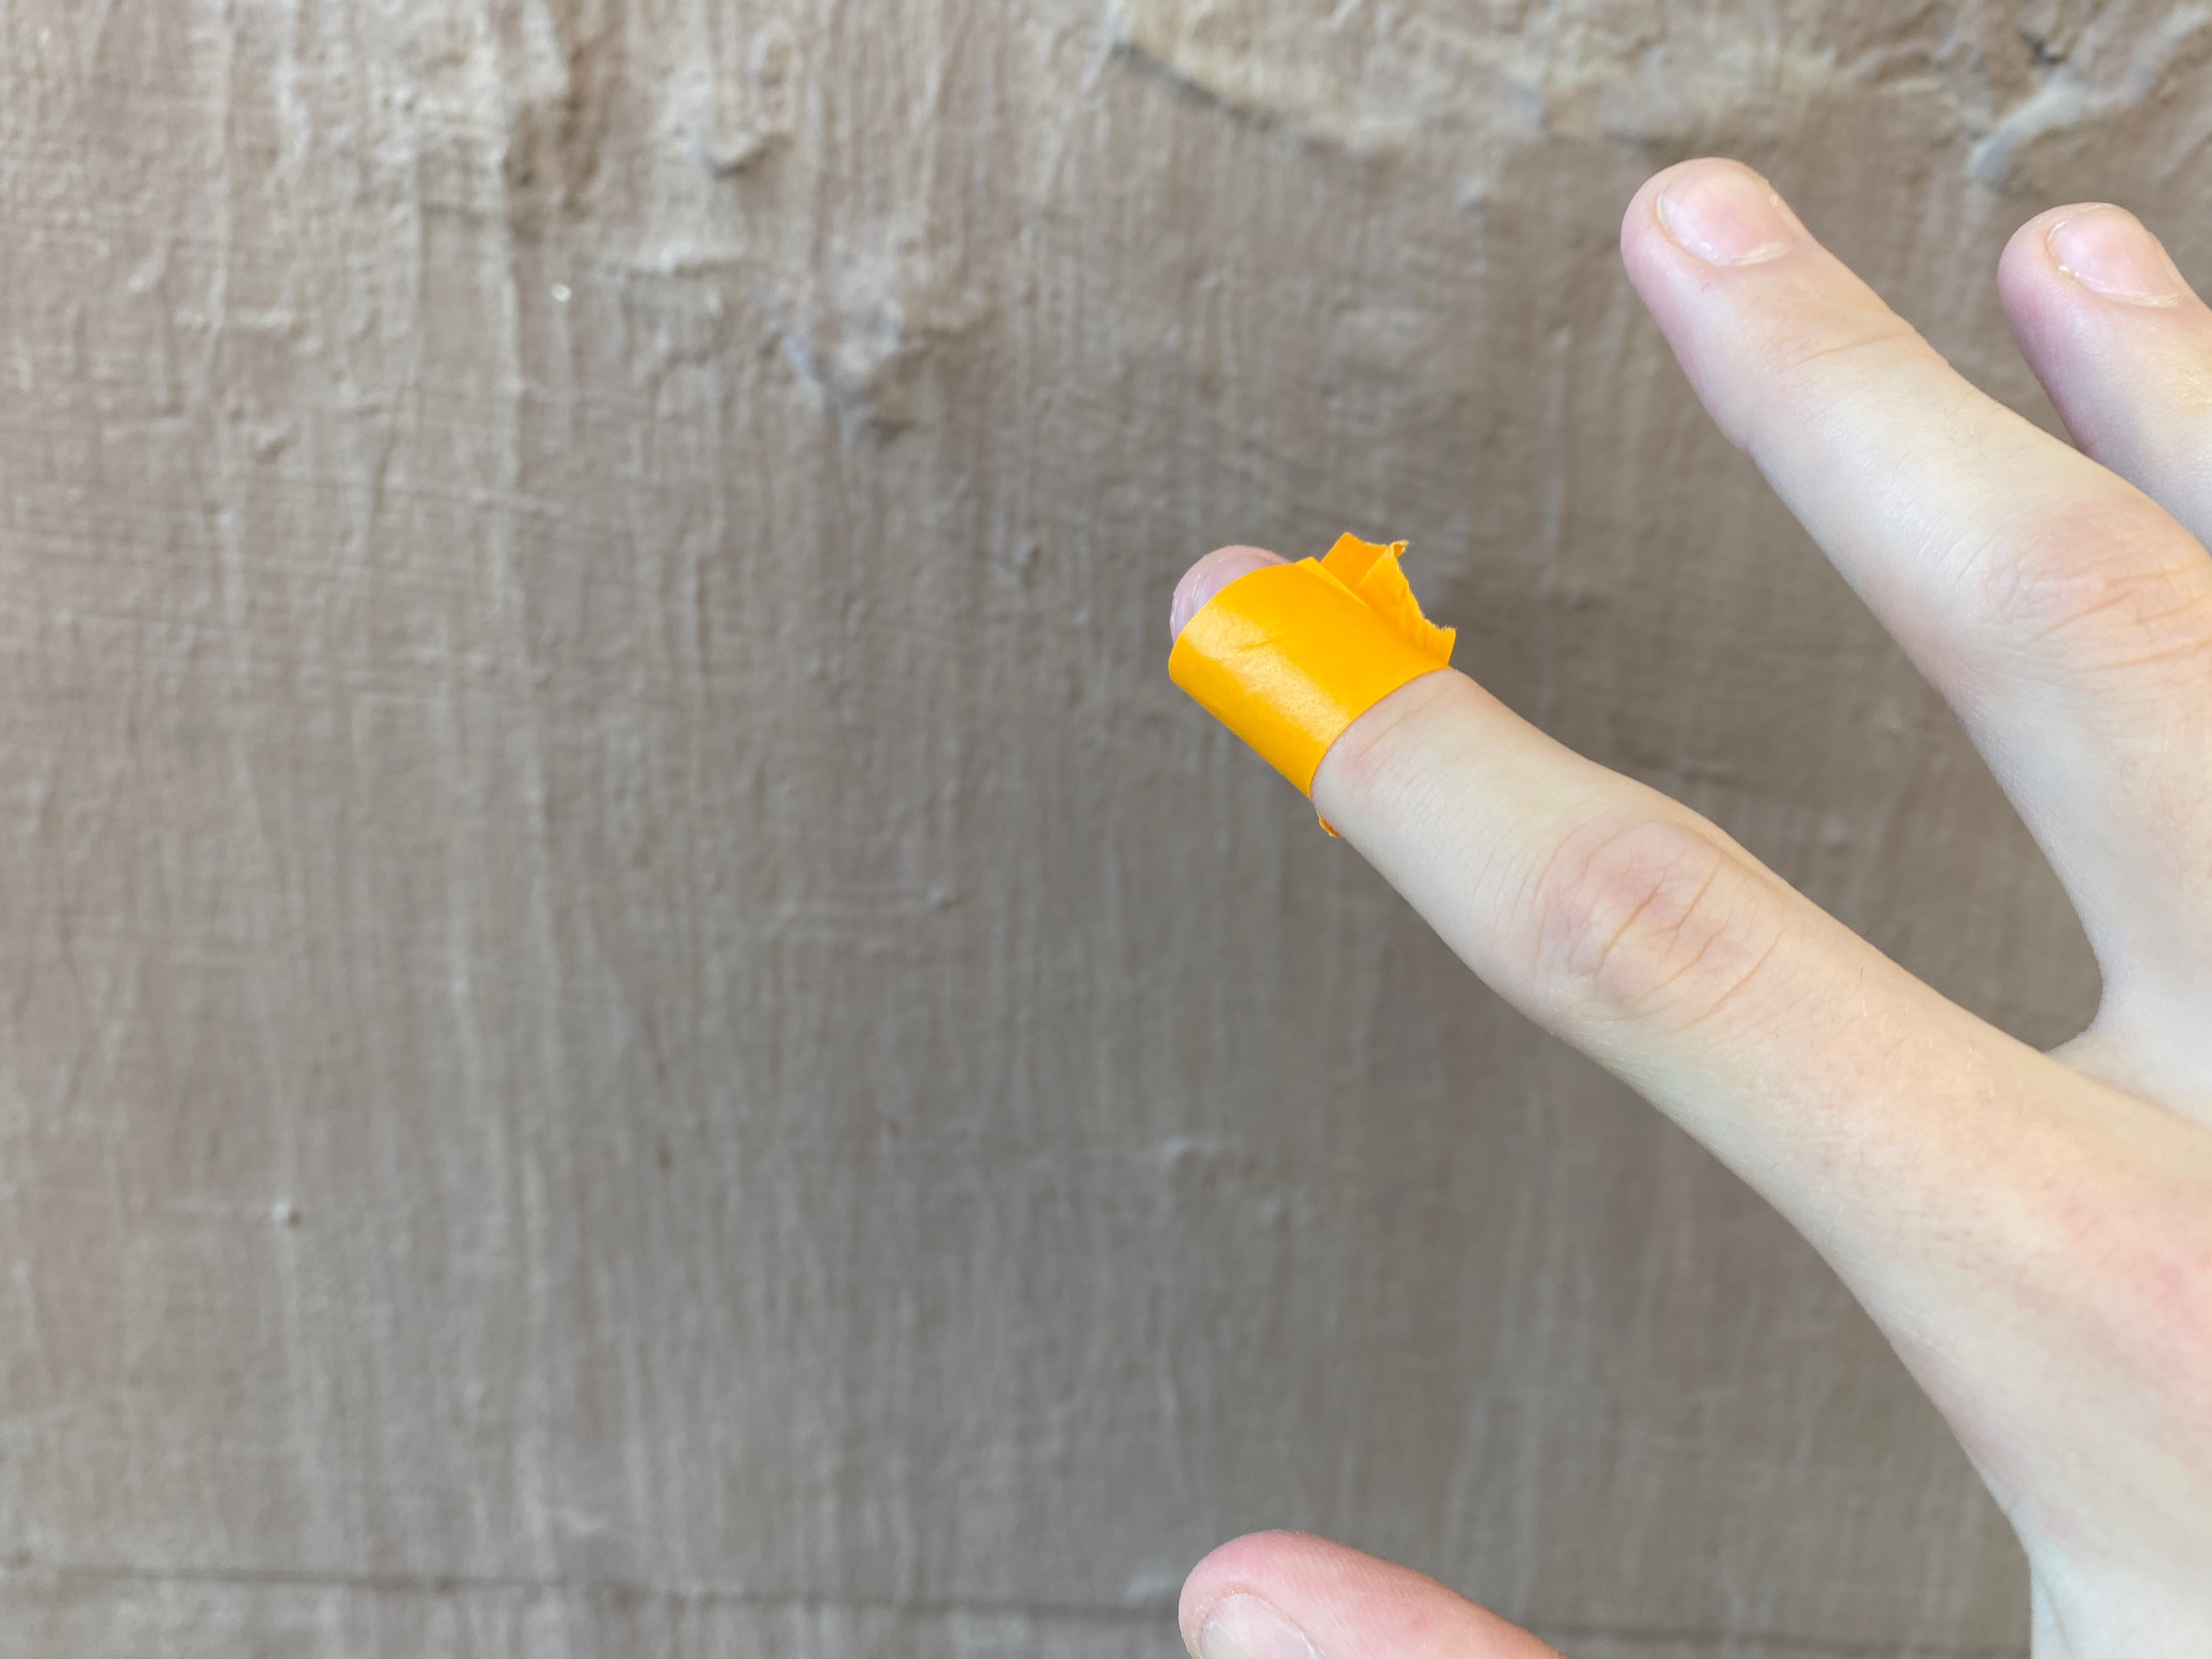fingertip: (1120, 502, 1538, 889)
